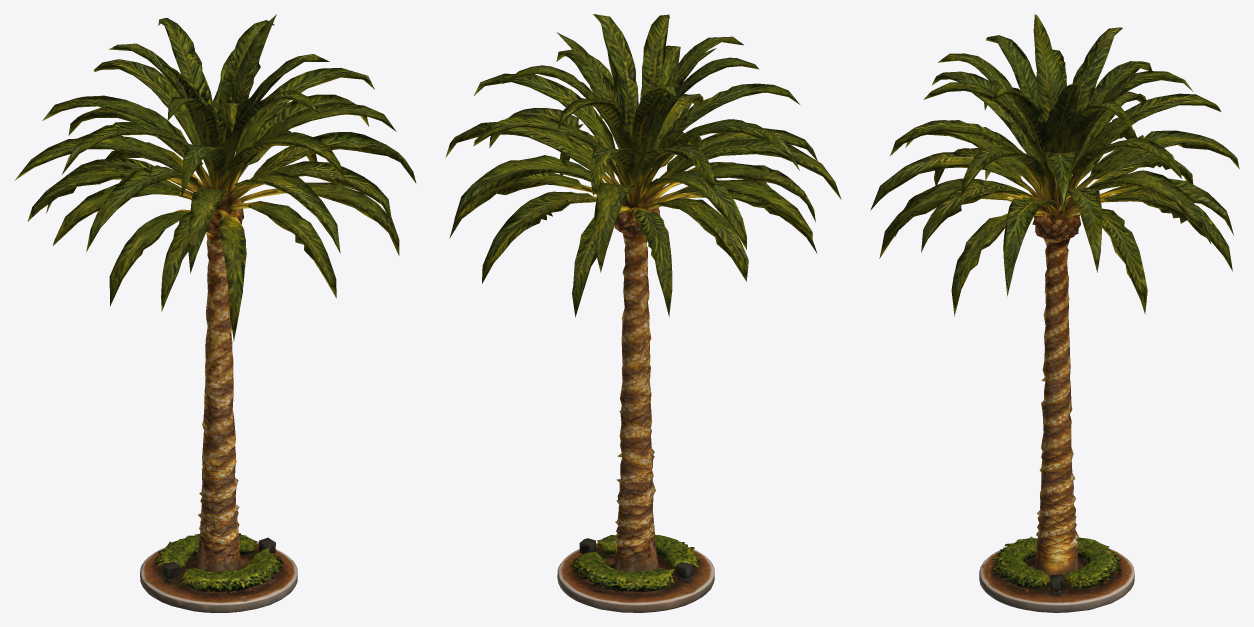
File: palm_lights.glb
3 renders of one model, left to right at view 1: azimuth 30°, elevation 25°; view 2: azimuth 150°, elevation 25°; view 3: azimuth 270°, elevation 25°, orthographic.
Visible parts, largest first — view 1: tripo_node_b576ae93-aebc-41c3-b653-8747e33dde7c; view 2: tripo_node_b576ae93-aebc-41c3-b653-8747e33dde7c; view 3: tripo_node_b576ae93-aebc-41c3-b653-8747e33dde7c.
Part boxes in pixels (box(x1,y1,x2,y2)): tripo_node_b576ae93-aebc-41c3-b653-8747e33dde7c: box(15, 14, 416, 612); tripo_node_b576ae93-aebc-41c3-b653-8747e33dde7c: box(445, 14, 841, 612); tripo_node_b576ae93-aebc-41c3-b653-8747e33dde7c: box(870, 14, 1239, 612).
Size of the model in its own units: 0.6621 by 1 by 0.6263.
1 material, 1 textured.
